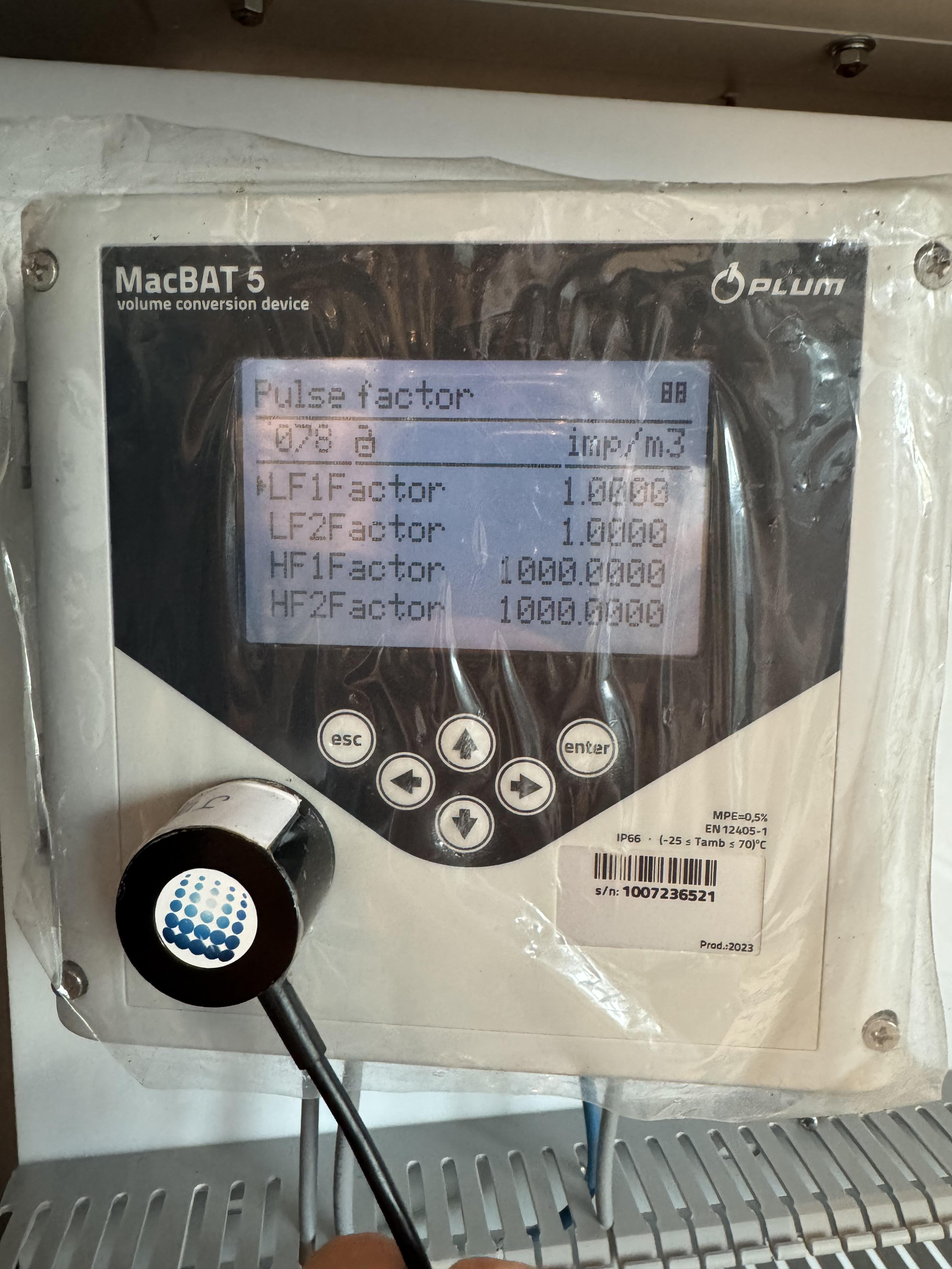digital_screen: (227, 345, 712, 658)
